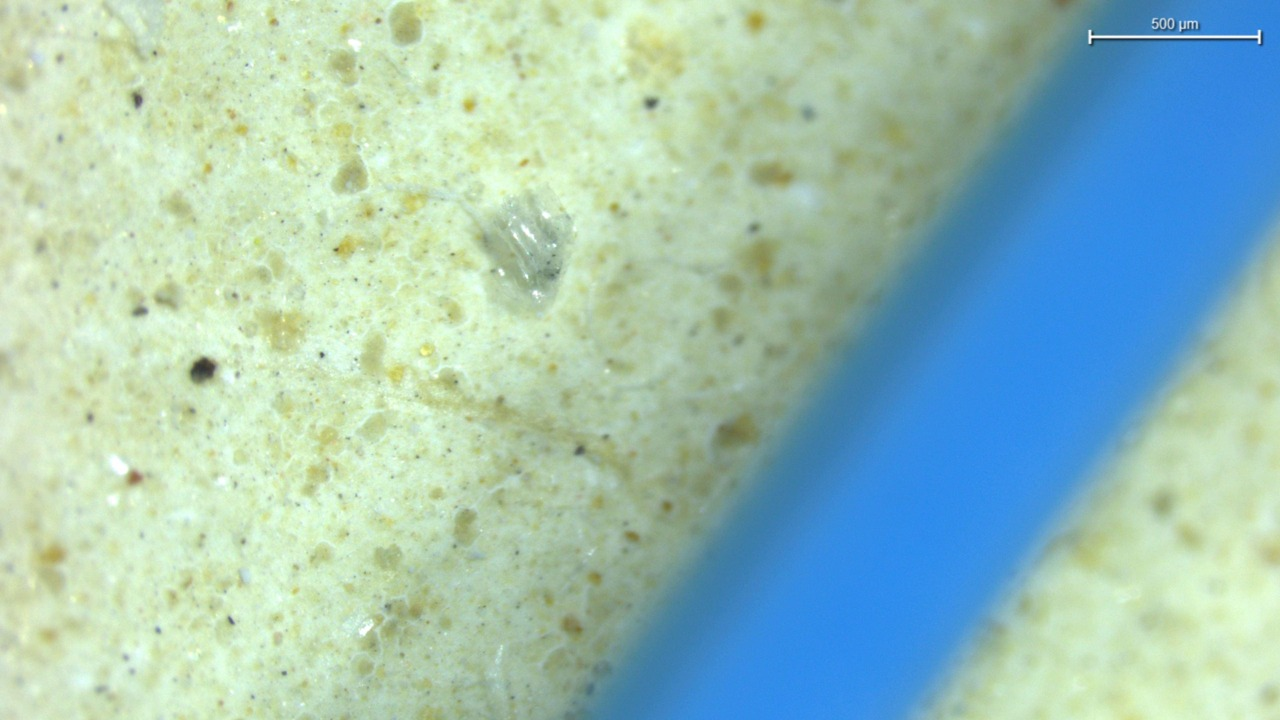microplastic_fragment: (472, 187, 575, 309)
